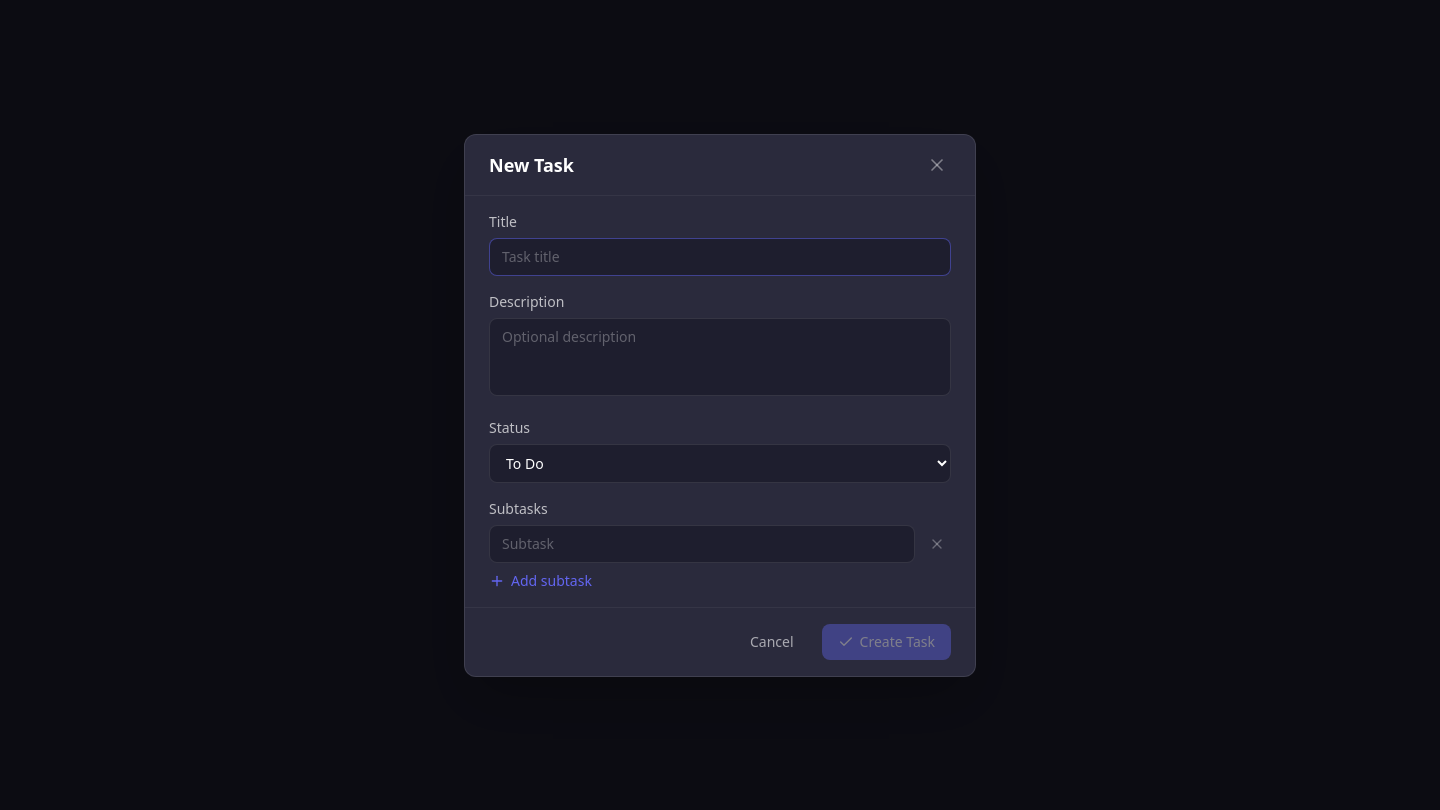
TaskModal - Create › removes a subtask input when X is clicked
This screenshot has width=1440, height=810.
Click the button "Add subtask" at (540, 580), box [489,570,592,590]
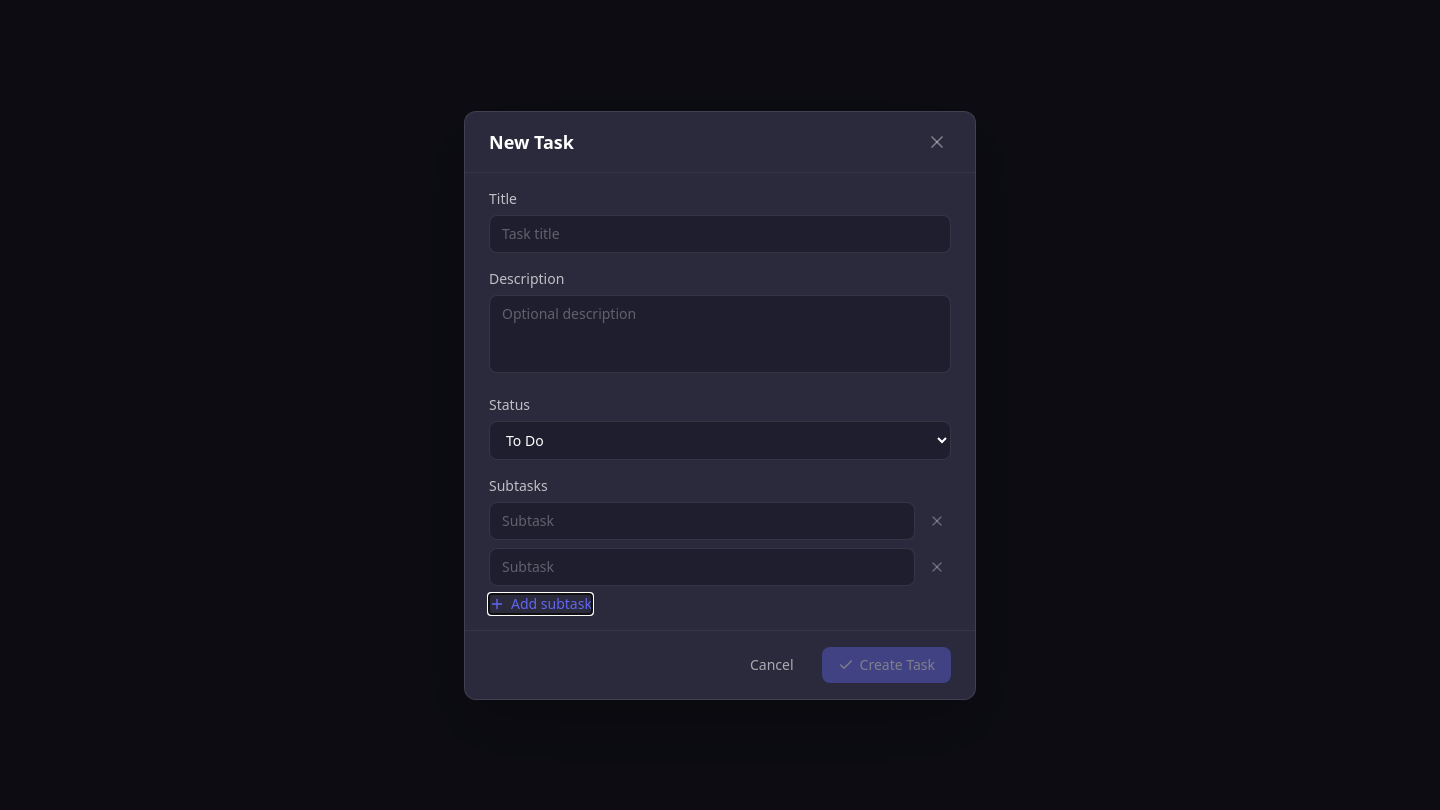
Result: the number of fields with placeholder "Subtask" is 2 at [489,502,915,540]; [489,548,915,586]
Click the 2nd button at (937, 520), box [923,506,951,534]
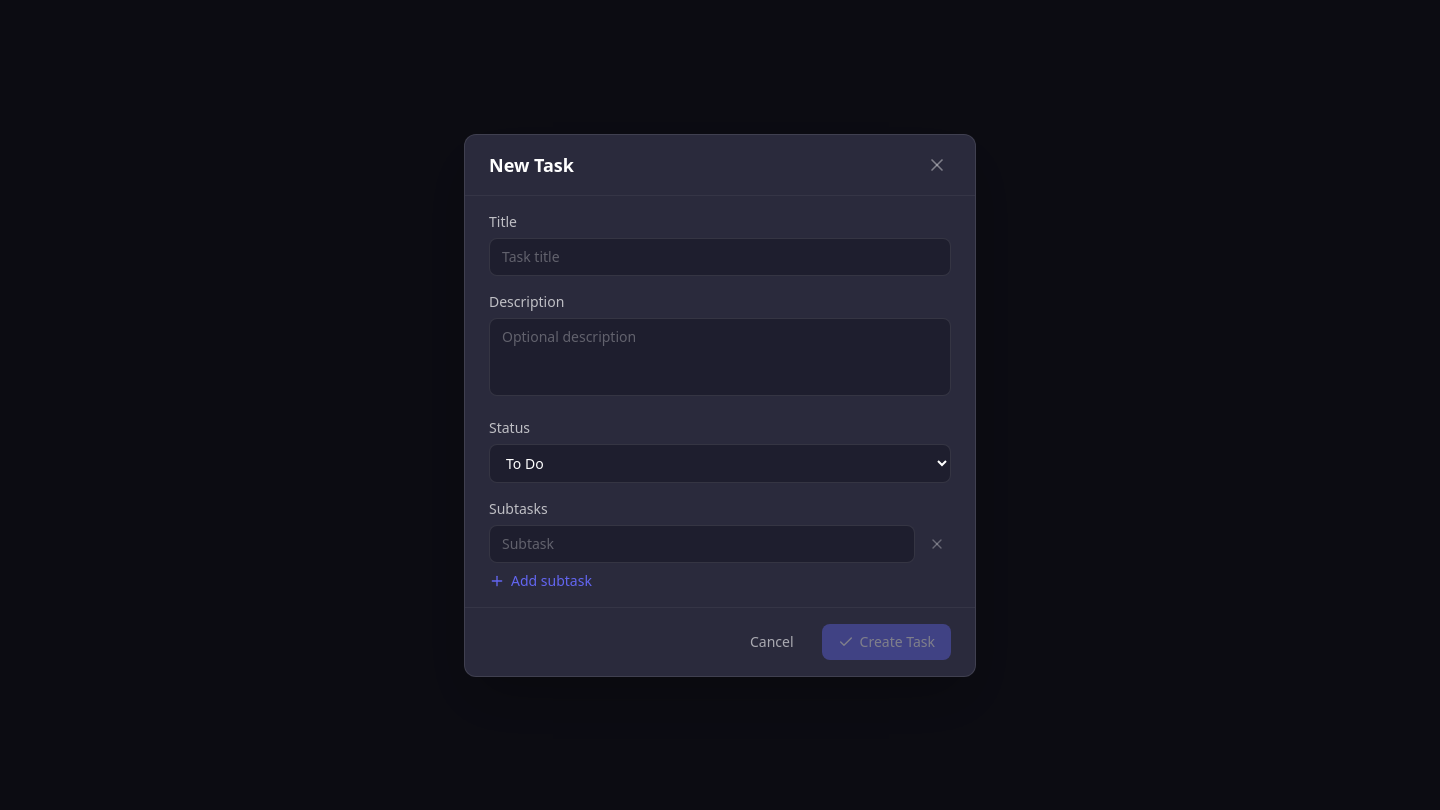
Result: the number of fields with placeholder "Subtask" is 1 at [489,524,915,562]
